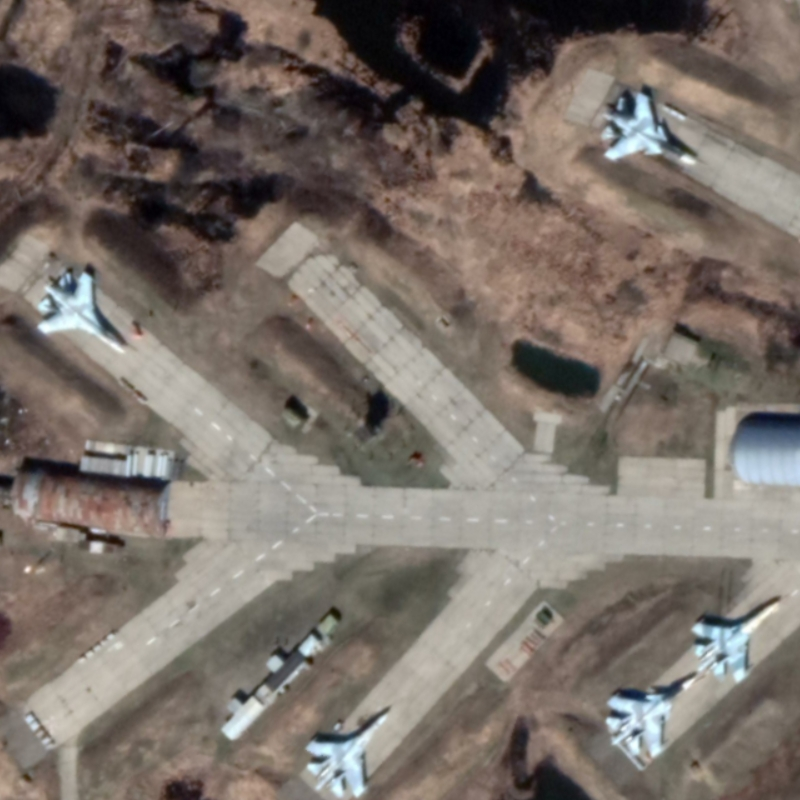A1: (689, 600, 783, 687), (34, 269, 127, 356), (305, 708, 390, 800)
A19: (599, 90, 704, 168), (604, 676, 700, 761)
